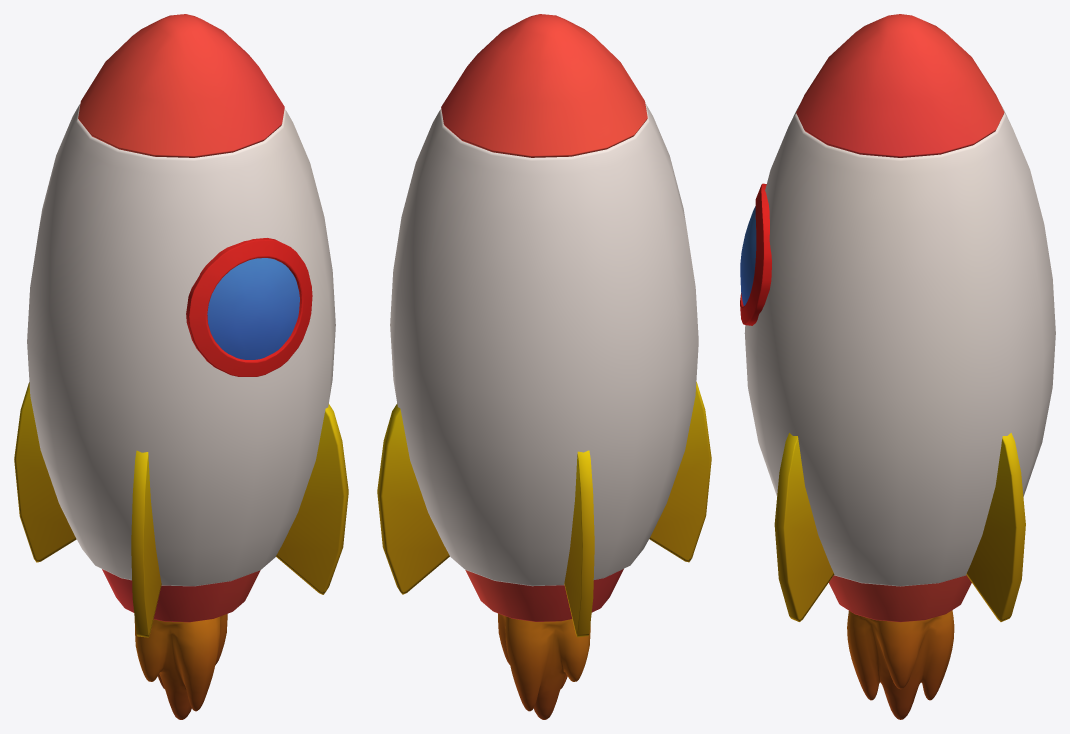
Rendered from Cartoon_Rocket.fbx.
The picture shows the model from 3 angles, left to right: view 1: azimuth 30°, elevation 25°; view 2: azimuth 150°, elevation 25°; view 3: azimuth 270°, elevation 25°; orthographic projection.
Visible parts, largest first — view 1: Rocket_Rocket_0, Fire_Fire_0; view 2: Rocket_Rocket_0, Fire_Fire_0; view 3: Rocket_Rocket_0, Fire_Fire_0.
Part boxes in pixels (x1,y1,x2,y2): Rocket_Rocket_0: [14, 14, 348, 637]; Fire_Fire_0: [134, 614, 227, 719]; Rocket_Rocket_0: [377, 14, 711, 637]; Fire_Fire_0: [498, 613, 590, 719]; Rocket_Rocket_0: [740, 14, 1055, 622]; Fire_Fire_0: [847, 610, 954, 719].
Size of the model in its own units: 51.06 by 127 by 51.82.
1 material, 1 textured.
